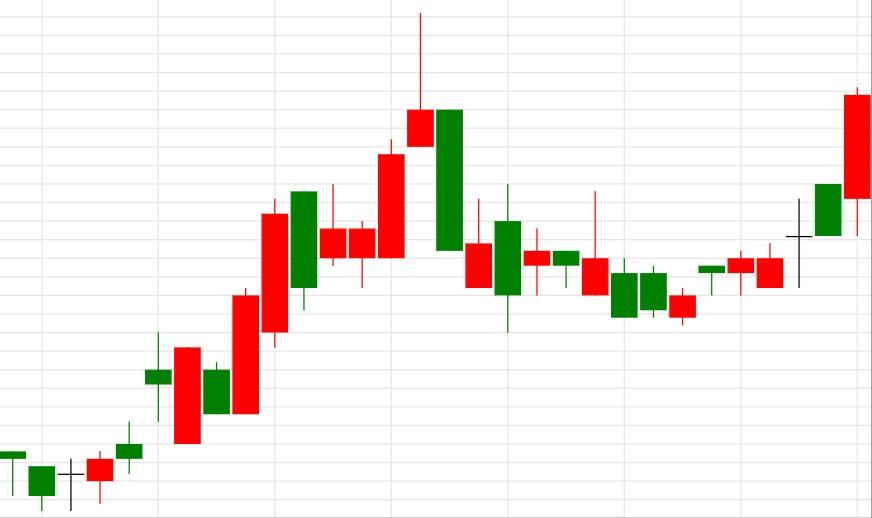shooting_star_fall: (27, 12, 435, 510)
